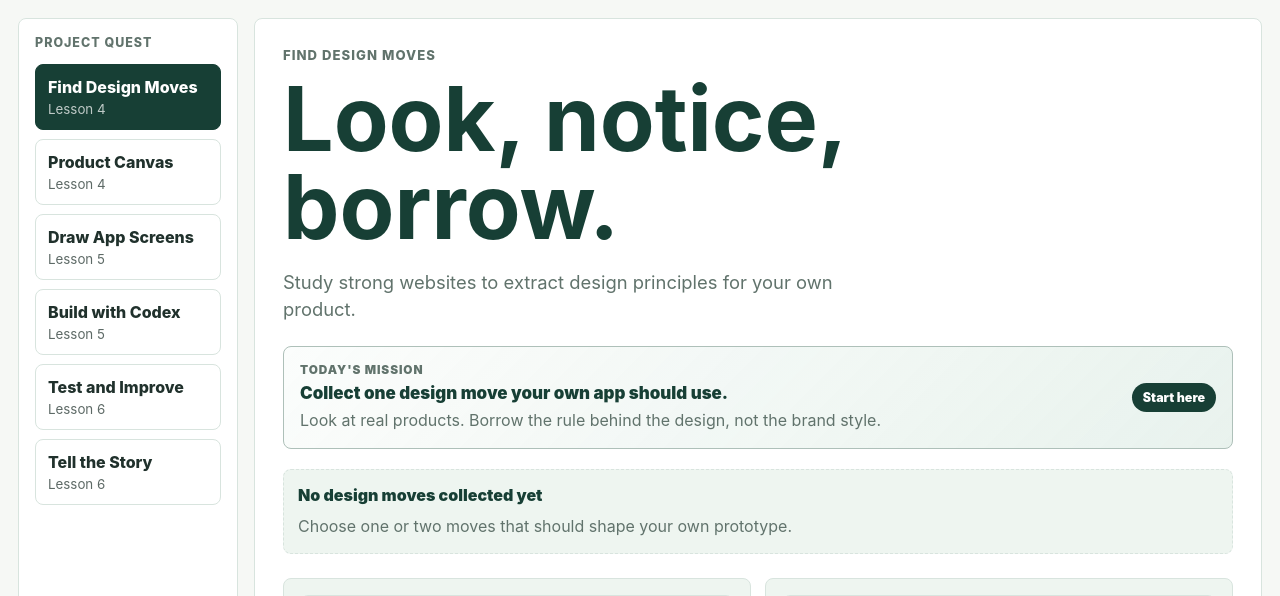
App › switches modules through the left rail
Click the button "Product Canvas Lesson 4": click(128, 172) [35,139,221,205]
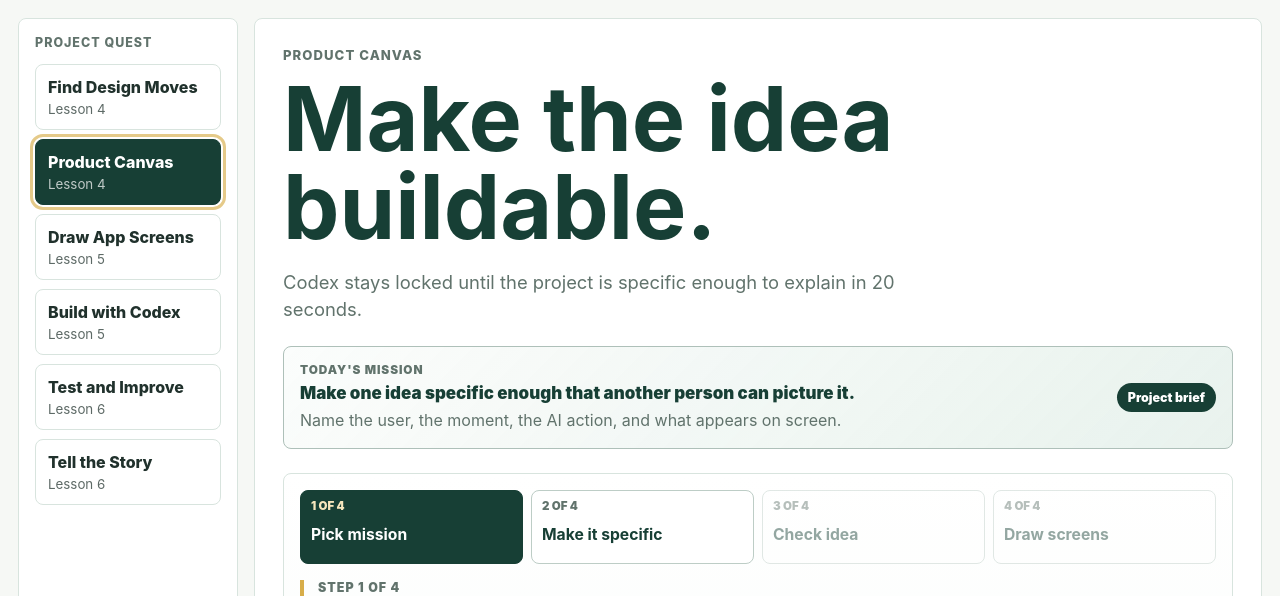
Expected: the heading "Make the idea buildable." is shown, [283,64,894,261]
Expected: the text "Make one idea specific enough that another person can picture it." is shown, [300,383,855,403]
